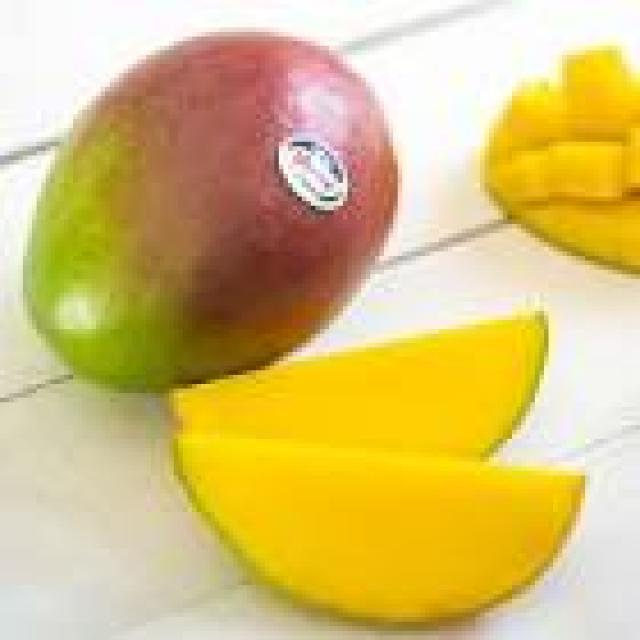mango: (25, 32, 398, 390), (174, 312, 582, 622), (486, 48, 640, 269)
